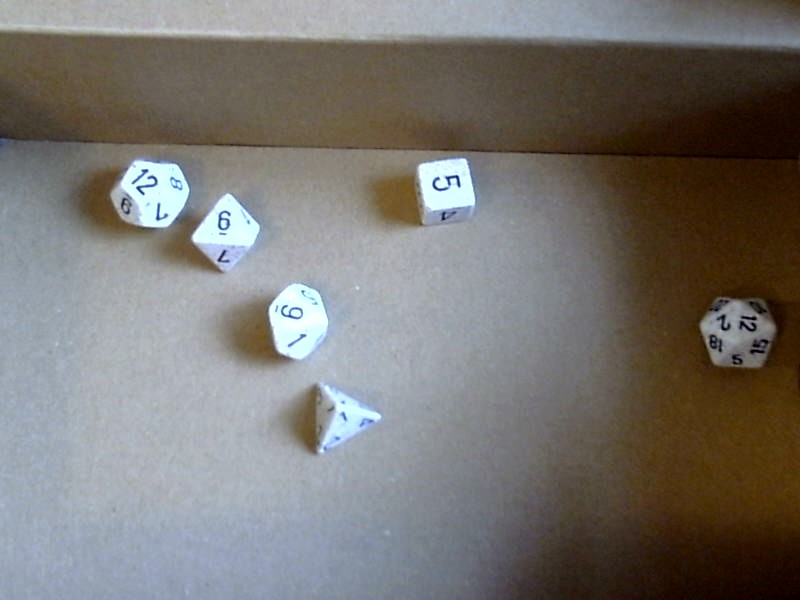d10 9: (262, 280, 329, 366)
d12 12: (98, 152, 188, 230)
d20 12: (690, 283, 783, 383)
d4 1: (305, 381, 388, 465)
d6 5: (405, 154, 481, 227)
d8 6: (192, 190, 259, 284)
